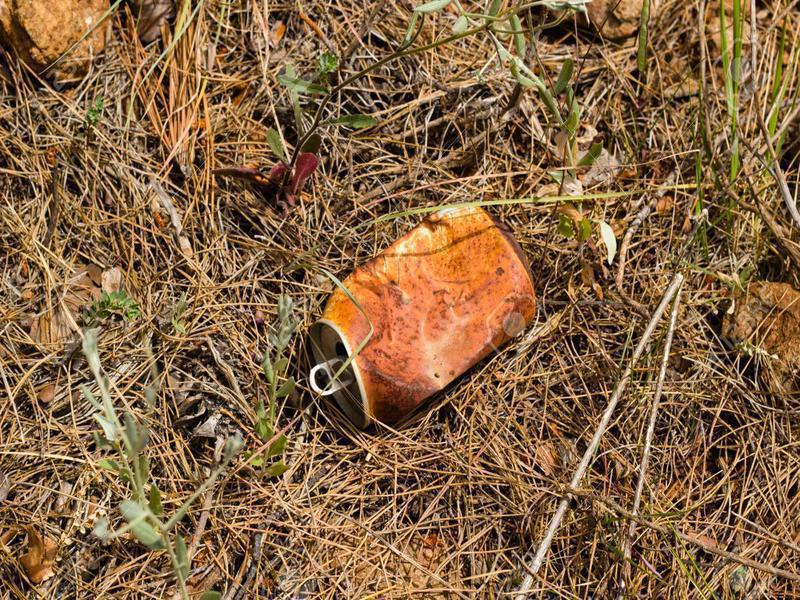can: (302, 198, 540, 440)
